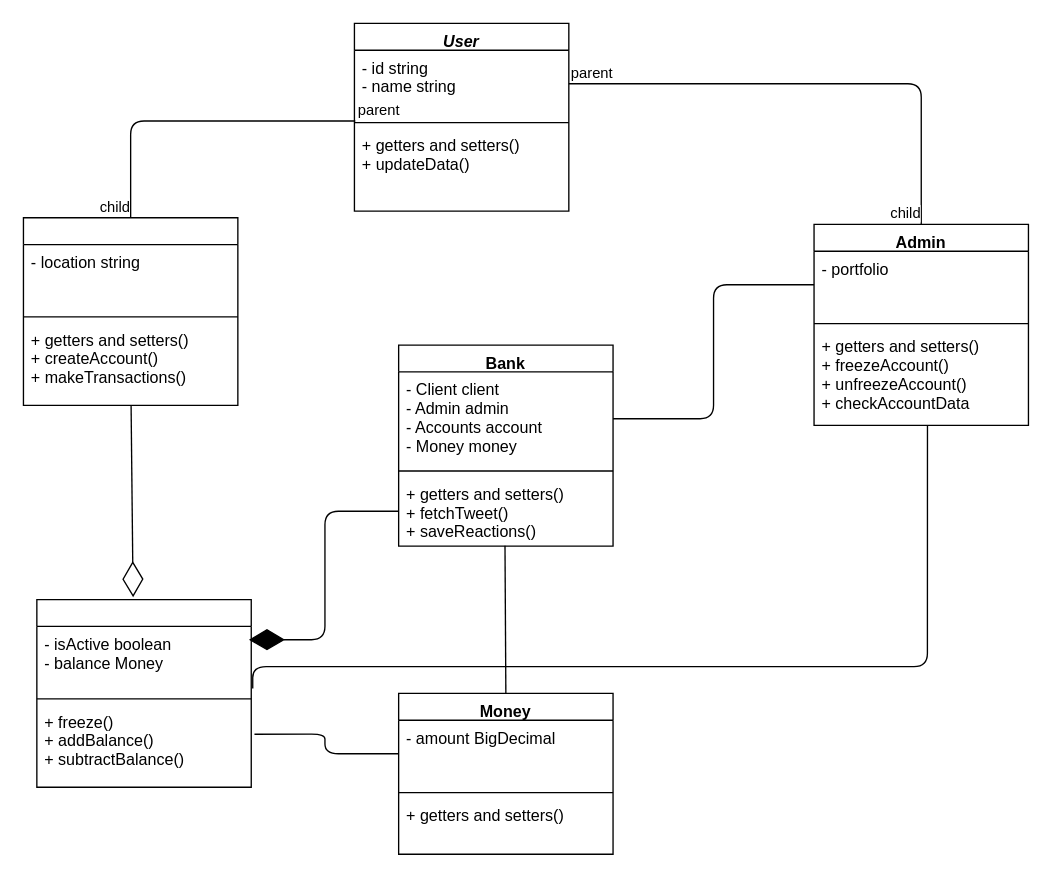
Some shapes in this 1052 by 882 pixel diagram are drawn without their labels. Here are the shapes that lost their labels. From the top down, the box of each, then its label:
(22, 216, 238, 405): Client
(36, 598, 251, 787): Account
